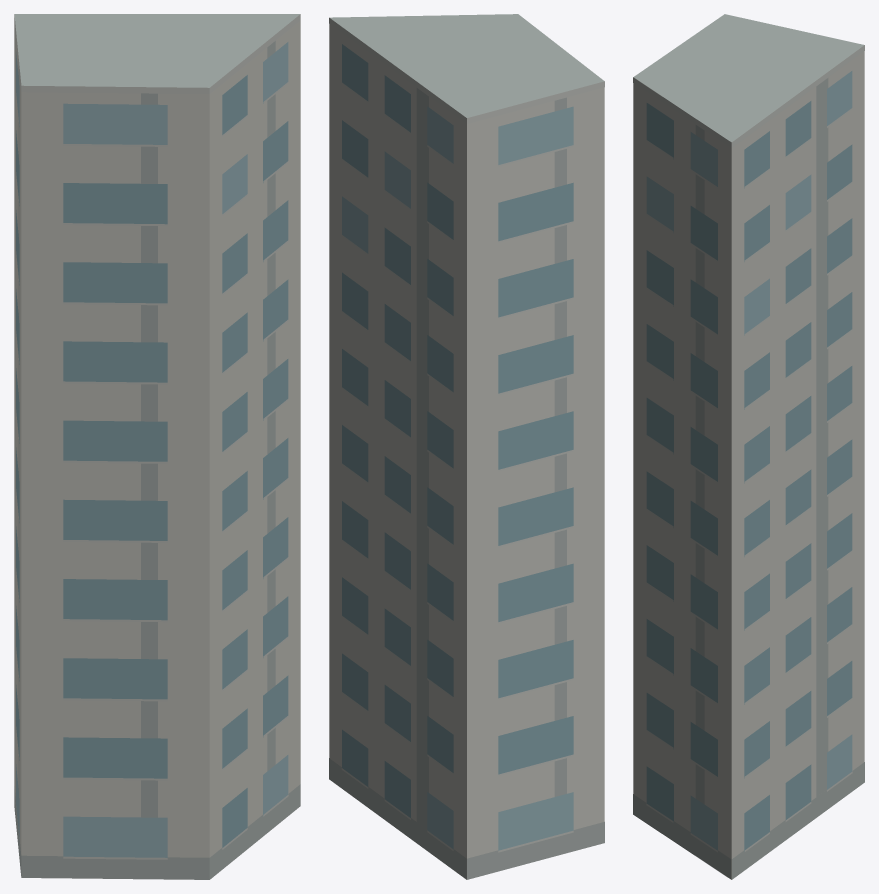
Rendered from survey-upis-32993185.glb.
The picture shows the model from 3 angles, left to right: view 1: azimuth 30°, elevation 25°; view 2: azimuth 150°, elevation 25°; view 3: azimuth 270°, elevation 25°; orthographic projection. The views are drawn at different scales.
Parts seen in each view (by area): view 1: survey-upis-32993185.tmp; view 2: survey-upis-32993185.tmp; view 3: survey-upis-32993185.tmp.
Part boxes in pixels (x1,y1,x2,y2): survey-upis-32993185.tmp: (14, 14, 300, 879); survey-upis-32993185.tmp: (329, 14, 604, 879); survey-upis-32993185.tmp: (633, 14, 864, 879).
Bounding box in the file's own units: 11.4 × 30.5 × 8.69.
